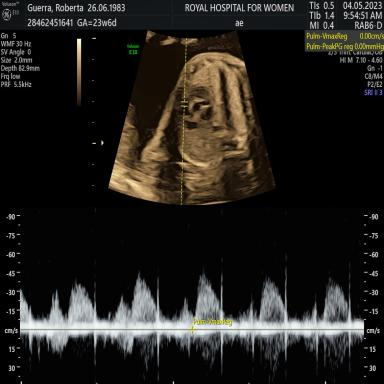Ultrasound-Waves: (25, 213, 358, 384)
